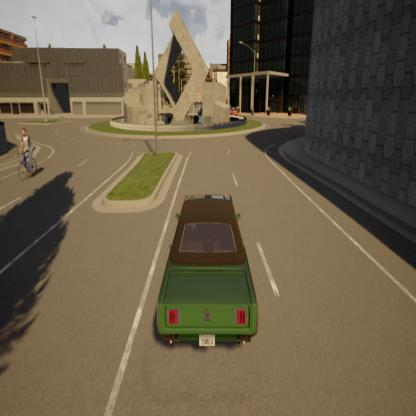Cars: (154, 180, 264, 371), (226, 102, 240, 118)
